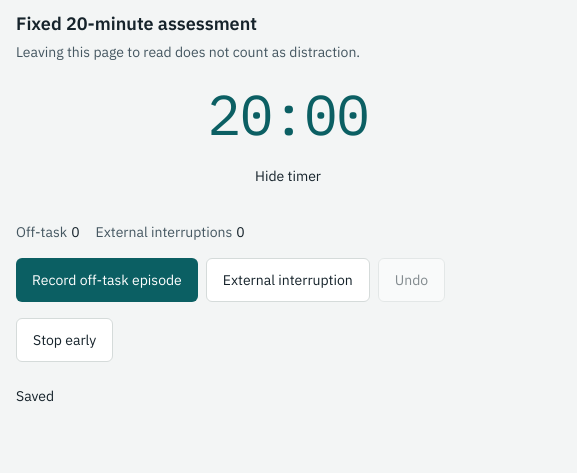
Test case: Running › a failed end transition renders the attempt-could-not-be-ended notice inside an alert, colored for attention (U15a)
expect the button "Record off-task episode" is shown: met, box [16,258,198,302]
Click the button "Stop early". click: (65, 340)
box: [16,318,113,362]
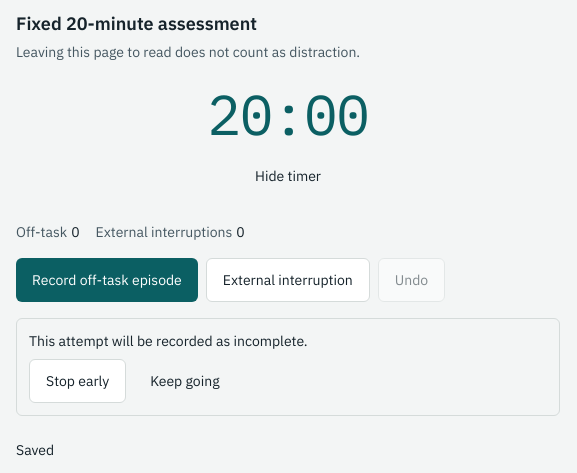
expect the text "This attempt will be recorded as incomplete." is shown: met, box [29,332,308,350]
Click the button "Stop early". click: (78, 381)
box: [29,359,126,403]
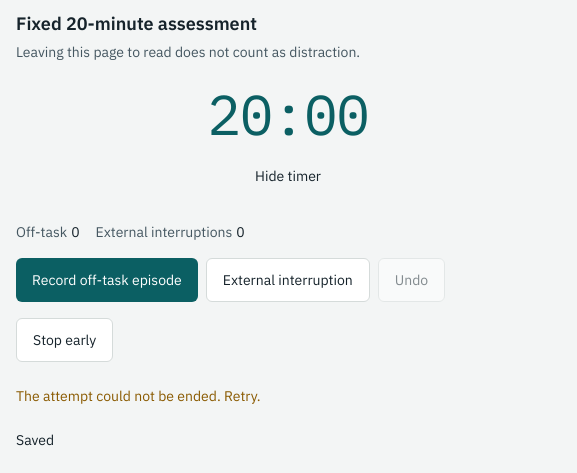
expect the message "The attempt could not be ended. Retry." is shown: met, box [16,387,261,405]
